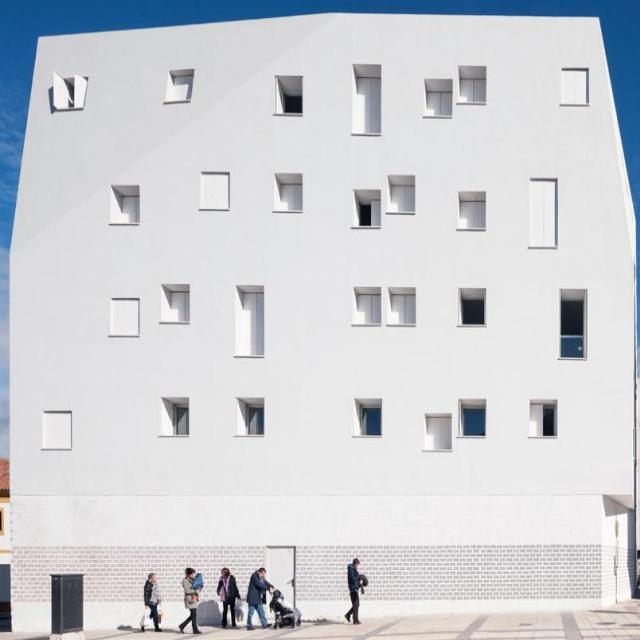door: (52, 574, 82, 632), (268, 546, 295, 610)
wall: (8, 12, 636, 629)
windows: (530, 178, 557, 251), (356, 77, 382, 136), (243, 294, 266, 358), (561, 301, 583, 358), (201, 172, 230, 209), (562, 66, 588, 104), (114, 300, 141, 336), (459, 200, 487, 232), (530, 404, 556, 438), (427, 418, 453, 450), (45, 414, 70, 447), (358, 294, 382, 326), (392, 184, 417, 214), (458, 76, 486, 101), (392, 295, 415, 324), (361, 403, 382, 434), (426, 91, 453, 115), (244, 404, 264, 432), (170, 293, 190, 321), (171, 76, 192, 102), (282, 184, 303, 210), (462, 406, 481, 433), (462, 298, 483, 322), (123, 196, 140, 223), (282, 94, 301, 114), (358, 202, 369, 225), (175, 406, 183, 434)
